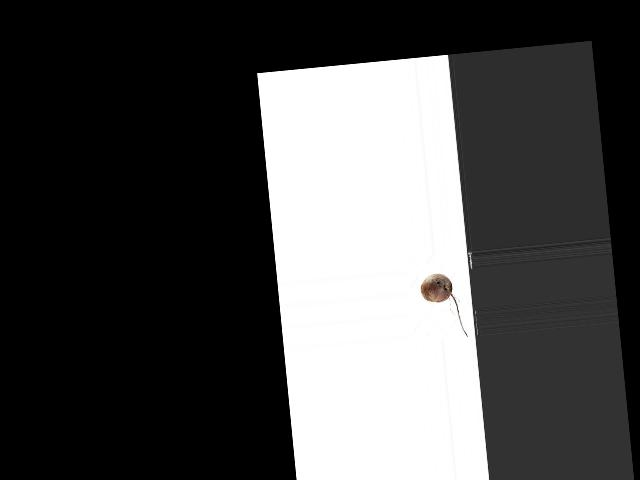beet: (419, 271, 468, 341)
